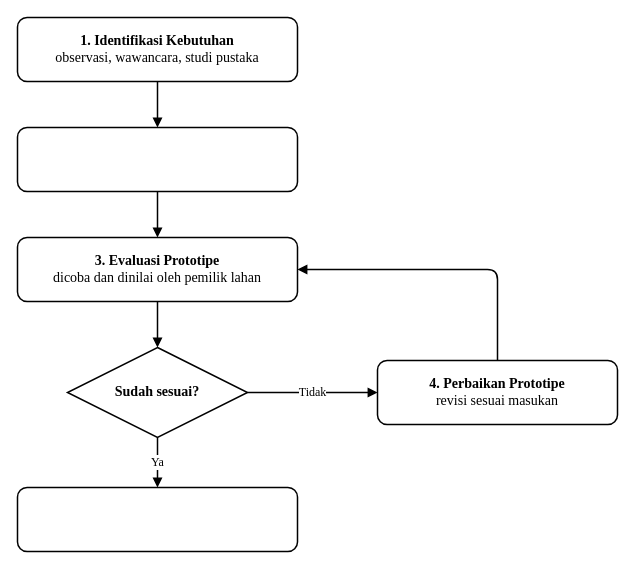
The diagram is 636 pixels wide and 570 high, and some of its shapes have lost their labels. Each missing label, with the centre of its shape:
"2. Perancangan Prototipe use case, activity diagram, desain Figma" belongs at (x=157, y=159).
"5. Rancangan Final didokumentasikan pada BAB IV" belongs at (x=157, y=519).
